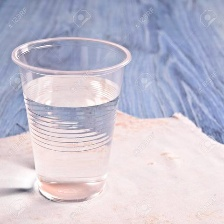glass: (8, 29, 135, 205)
